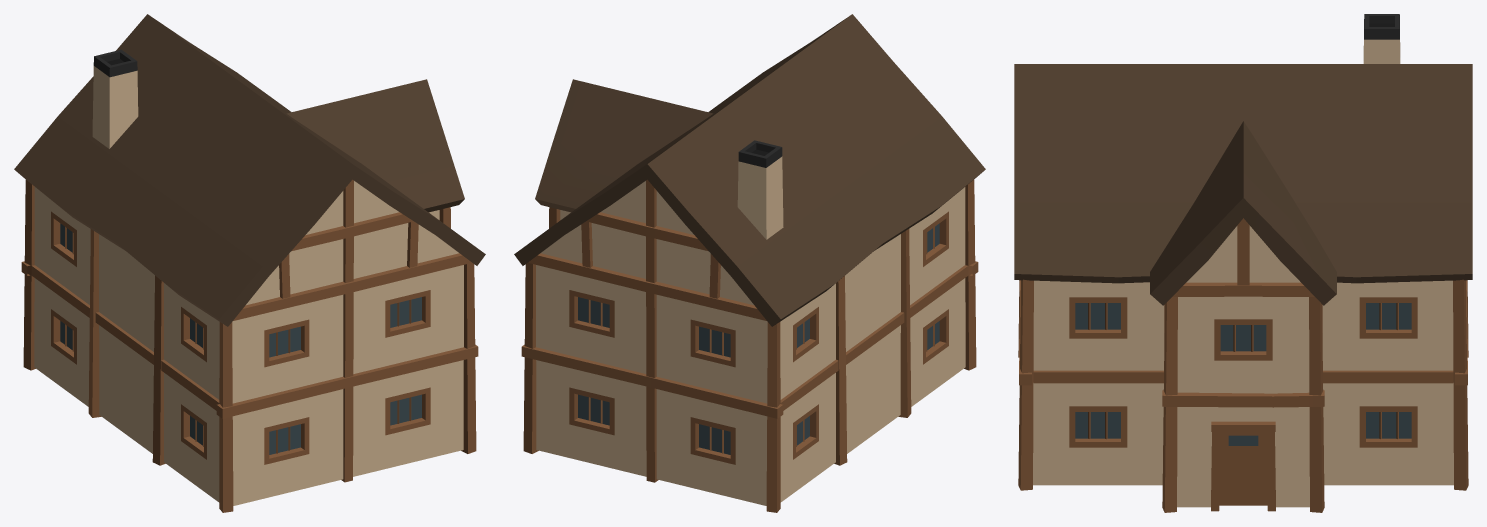
Rendered from medieval_house-medieval_big.fbx.
3 renders of one model, left to right at view 1: azimuth 30°, elevation 25°; view 2: azimuth 150°, elevation 25°; view 3: azimuth 270°, elevation 25°, orthographic. The views are drawn at different scales.
Visible parts, largest first — view 1: medieval_house_medieval_big; view 2: medieval_house_medieval_big; view 3: medieval_house_medieval_big.
Boxes of the visible parts, <box> form: medieval_house_medieval_big: <box>14,14,485,512</box>; medieval_house_medieval_big: <box>514,14,985,512</box>; medieval_house_medieval_big: <box>1014,14,1472,512</box>.
Size of the model in its own units: 176 by 174 by 200.
